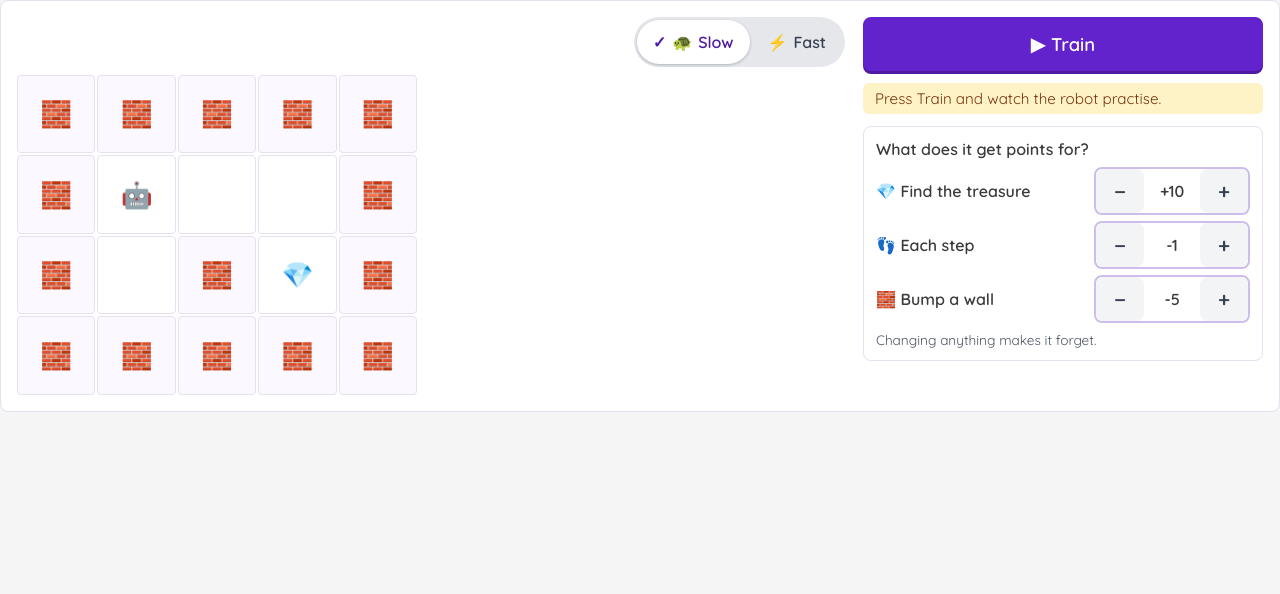
Test: Game agent UI › keeps the default screen to 5 controls and 7 after training
Click the button "▶Train" at (1063, 44), box [863,17,1263,71]
Wait 30000 ms
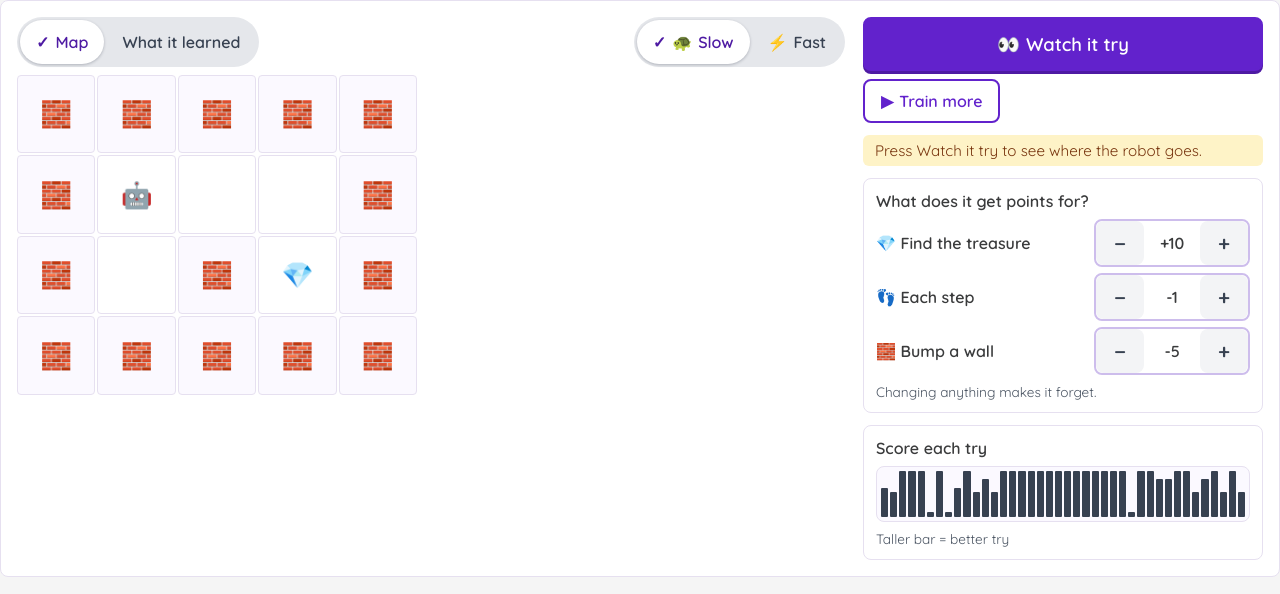
Result: the button "👀Watch it try" is shown at [863,17,1263,71]
Result: the button "▶Train more" is shown at [863,79,1000,123]
